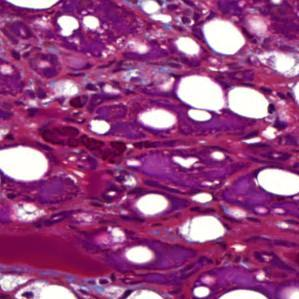steatosis: (172, 70, 227, 114), (202, 16, 248, 57), (226, 85, 273, 121), (136, 190, 168, 217)
